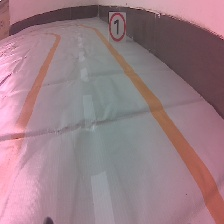limit: (106, 9, 129, 47)
